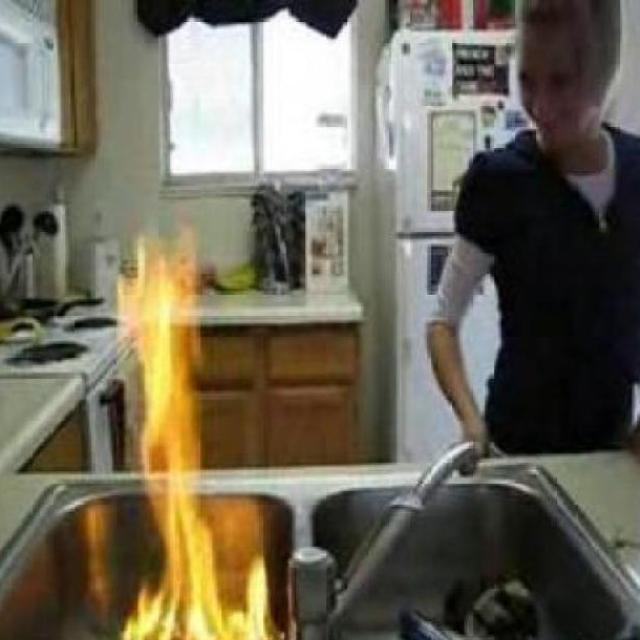smoke: (115, 221, 266, 640)
